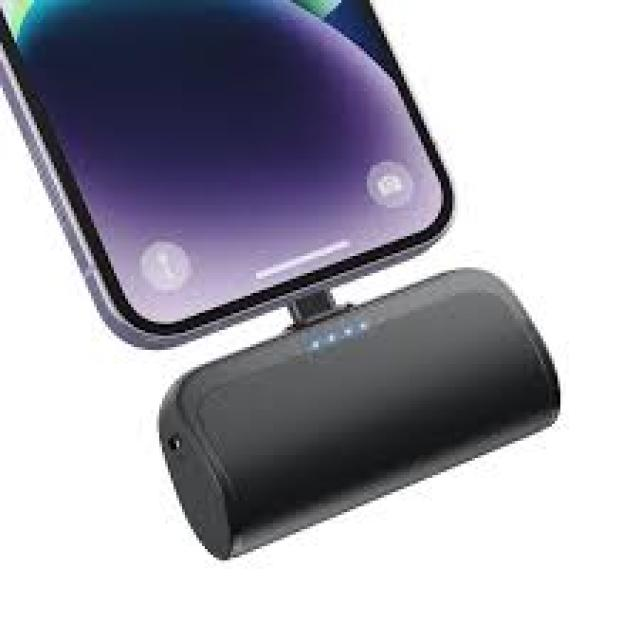portable-charger: (158, 260, 573, 571)
